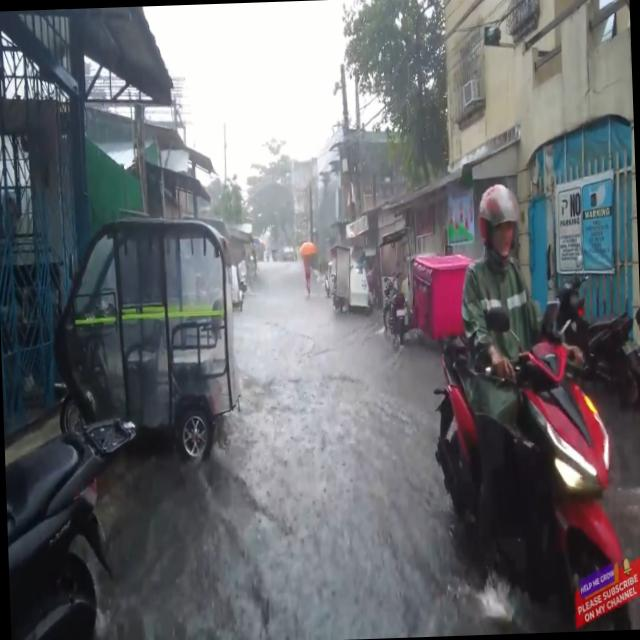half: (478, 182, 520, 256)
